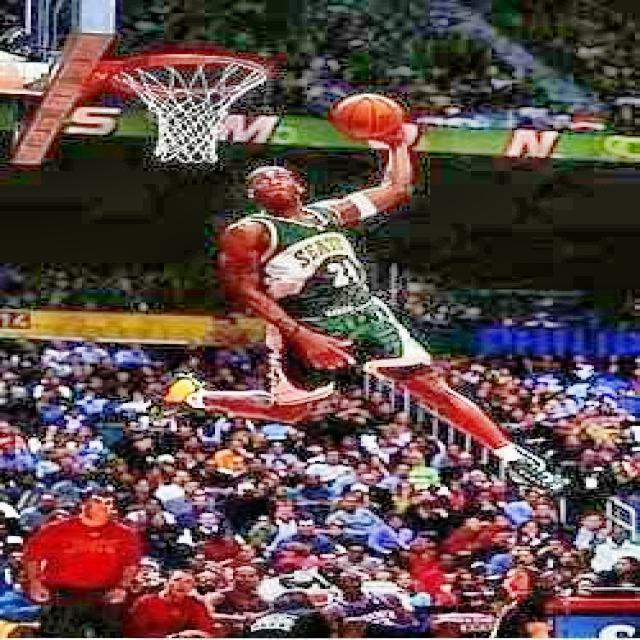board: (336, 93, 404, 141)
rim: (116, 54, 268, 164)
